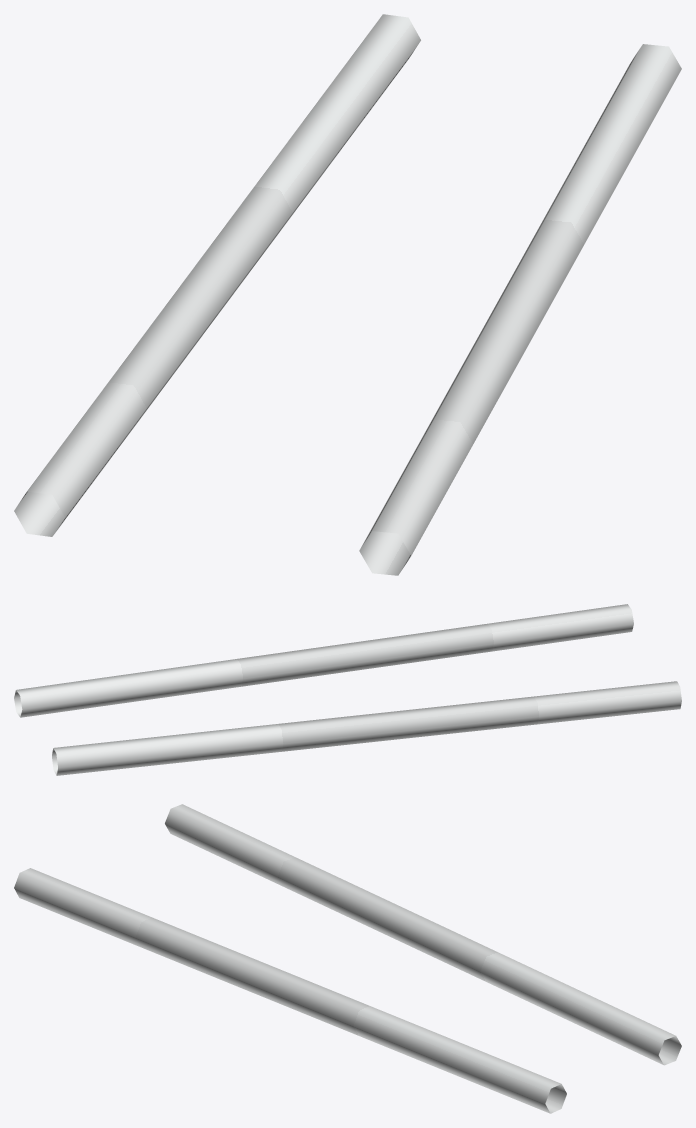
Rendered from nycsignalarm_diagonal12_c22.obj.
The picture shows the model from 3 angles, top to bottom: view 1: azimuth 30°, elevation 25°; view 2: azimuth 150°, elevation 25°; view 3: azimuth 270°, elevation 25°; orthographic projection. The views are drawn at different scales.
Parts seen in each view (by area): view 1: nycsignalarm_diagonal12_c22; view 2: nycsignalarm_diagonal12_c22; view 3: nycsignalarm_diagonal12_c22.
Part boxes in pixels (x1,y1,x2,y2): nycsignalarm_diagonal12_c22: (14,14,681,575); nycsignalarm_diagonal12_c22: (14,604,681,775); nycsignalarm_diagonal12_c22: (14,804,681,1113).
Bounding box in the file's own units: 1.3 × 0.0696 × 1.3.
